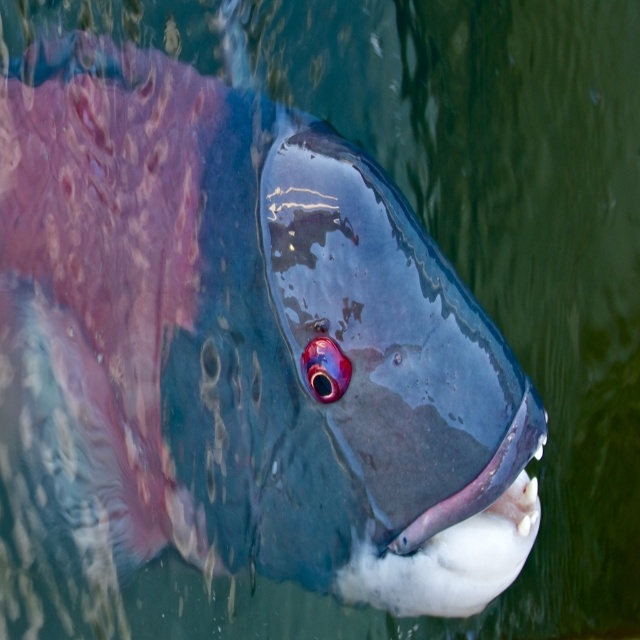Fish: (0, 25, 550, 639)
